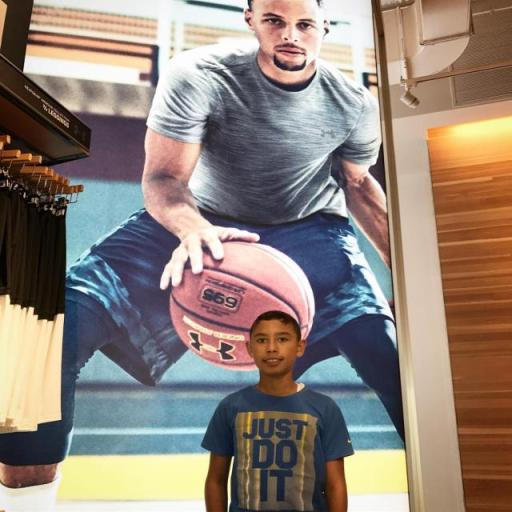Under Armour: (186, 328, 240, 364)
